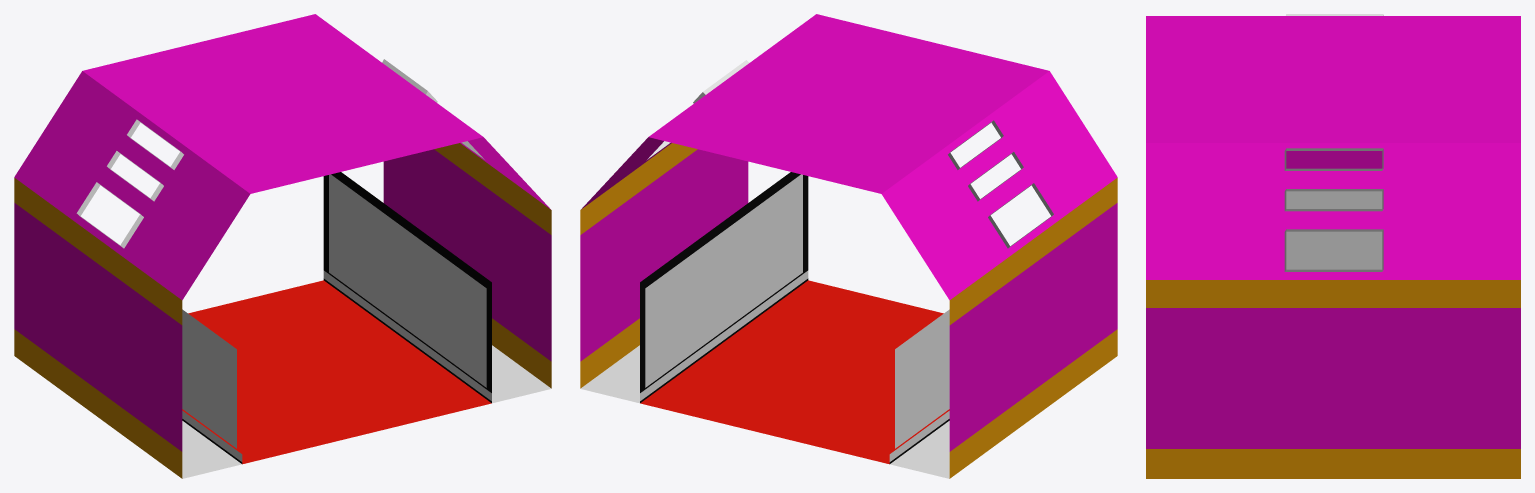
Rendered from Hallway.fbx.
The picture shows the model from 3 angles, left to right: view 1: azimuth 30°, elevation 25°; view 2: azimuth 150°, elevation 25°; view 3: azimuth 270°, elevation 25°; orthographic projection. The views are drawn at different scales.
Visible parts, largest first — view 1: Plane.001; view 2: Plane.001; view 3: Plane.001.
Part boxes in pixels (x1=…): Plane.001: x1=14, y1=14, x2=551, y2=478; Plane.001: x1=580, y1=14, x2=1117, y2=478; Plane.001: x1=1146, y1=14, x2=1520, y2=478.
Size of the model in its own units: 12.68 by 8.8 by 10.
